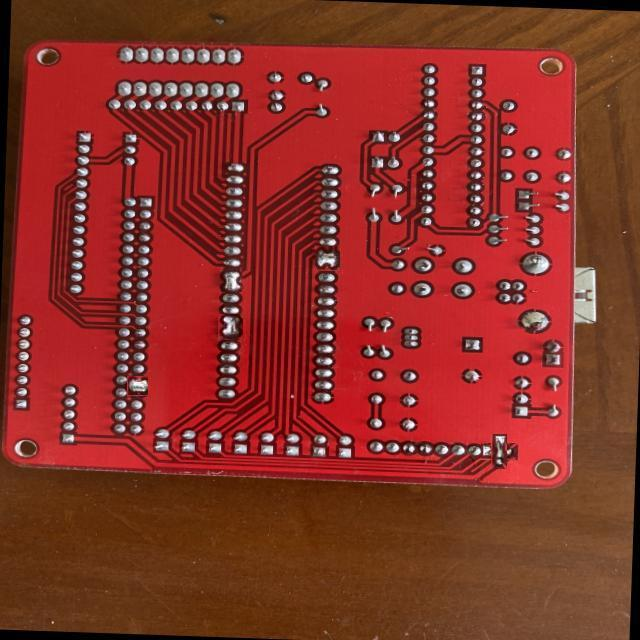damged: (486, 438, 512, 464), (218, 314, 243, 340), (315, 246, 340, 272), (220, 270, 242, 292), (127, 376, 148, 397)
